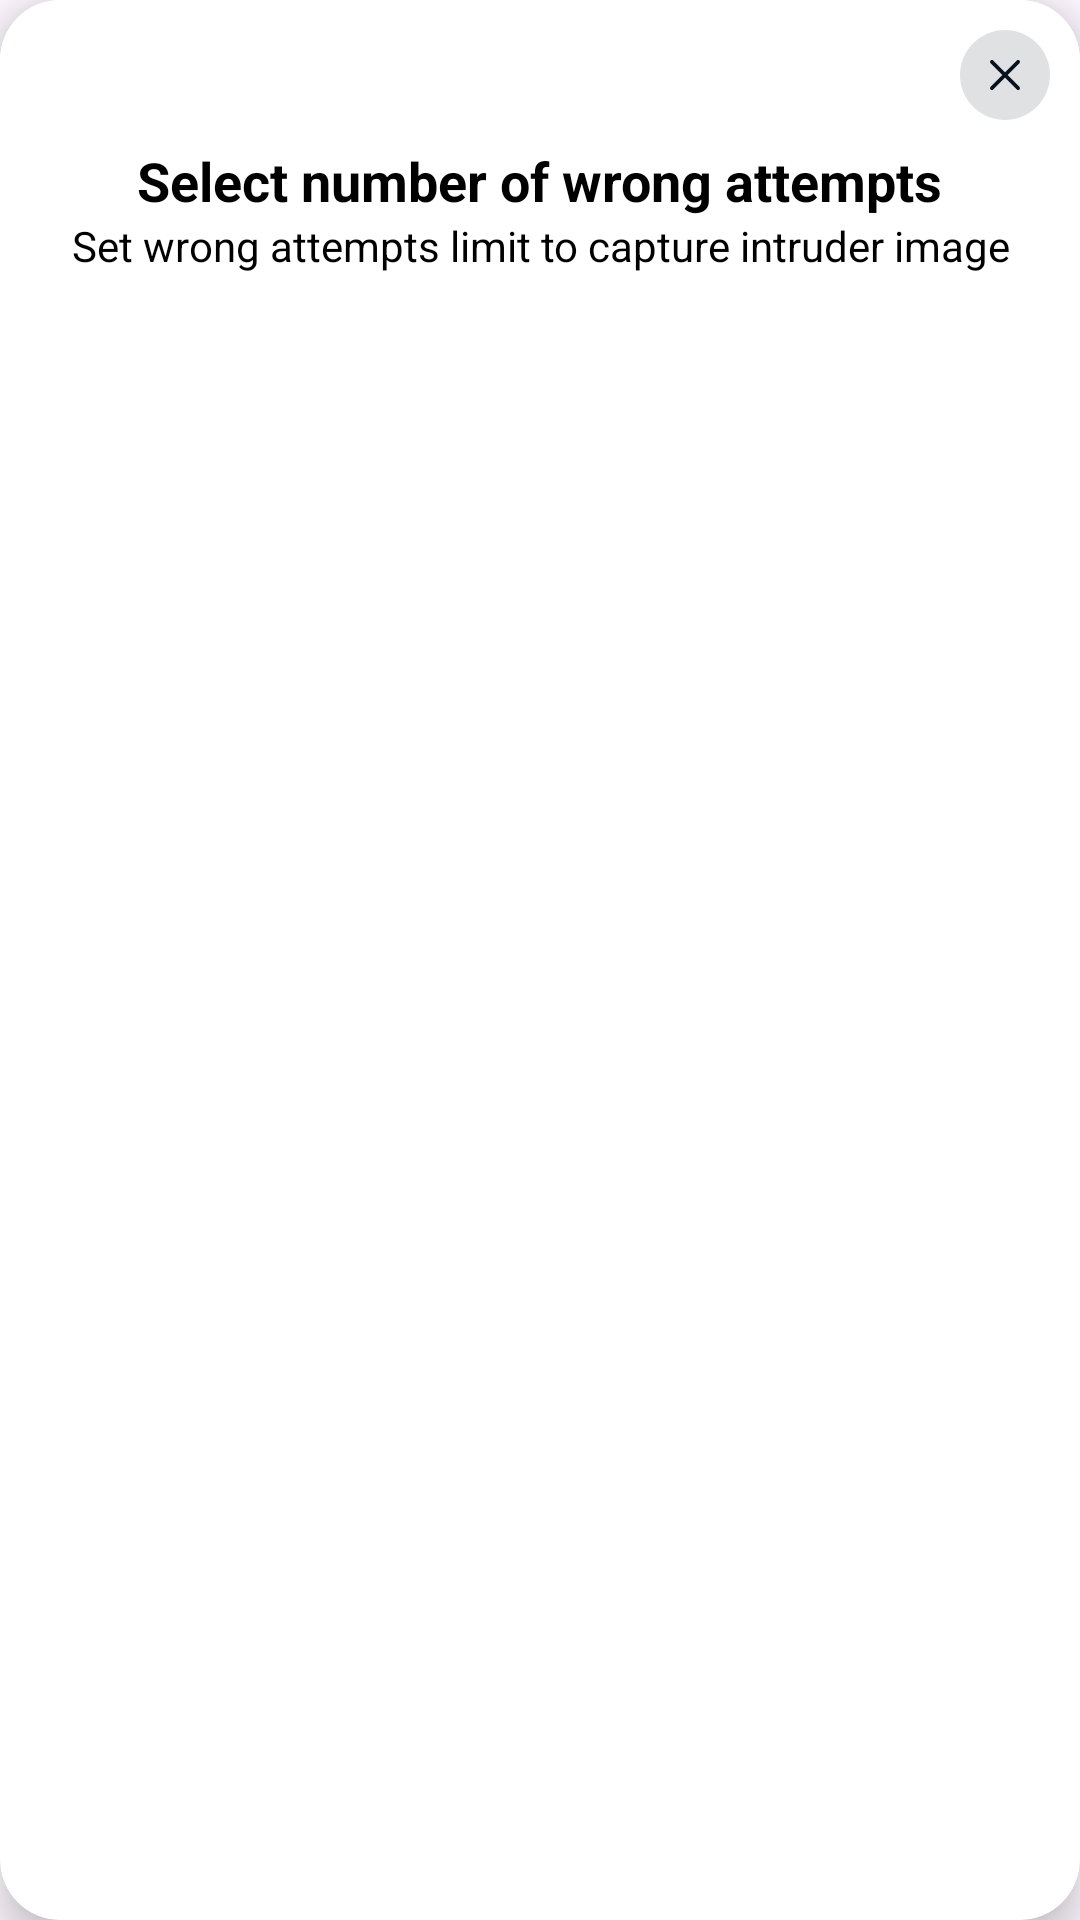

Where to tap for icons on this 1080×1920 app screen, as point (x, y):
Close: point (1005, 75)
